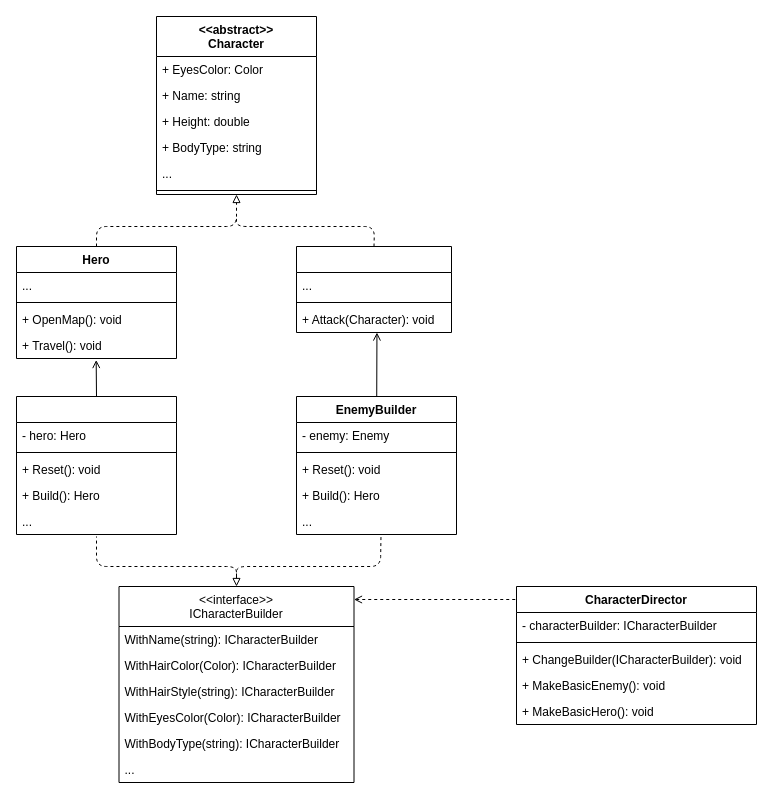
Image size: 773x799. Some labels were removed from this diagram. The shapes that lost their labels are listed below. From the top down, each one's box as (x1, y1, x2, y2) in pixels, then its label:
(296, 246, 452, 332): Enemy
(16, 396, 176, 534): HeroBuilder
